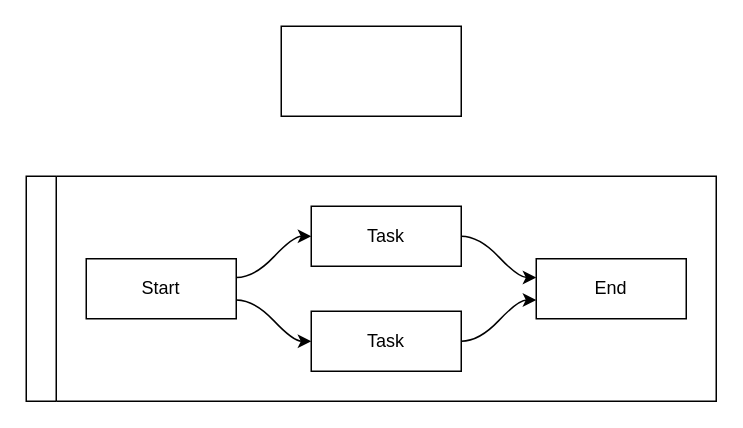
Image size: 743x428. Some labels were removed from this diagram. The shapes that lost their labels are listed below. From the top down, each one's box as (x1, y1, x2, y2) in pixels, then its label:
(280, 25, 461, 116): hello, diagram.drawio
(25, 175, 716, 401): Horizontal Flow Layout
